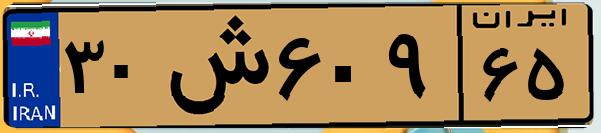0: (330, 28, 385, 110), (110, 28, 158, 98)
3: (57, 26, 110, 100)
5: (525, 38, 570, 115)
6: (270, 28, 330, 110), (475, 38, 525, 113)
9: (385, 28, 445, 110)
ش: (158, 12, 270, 120)
